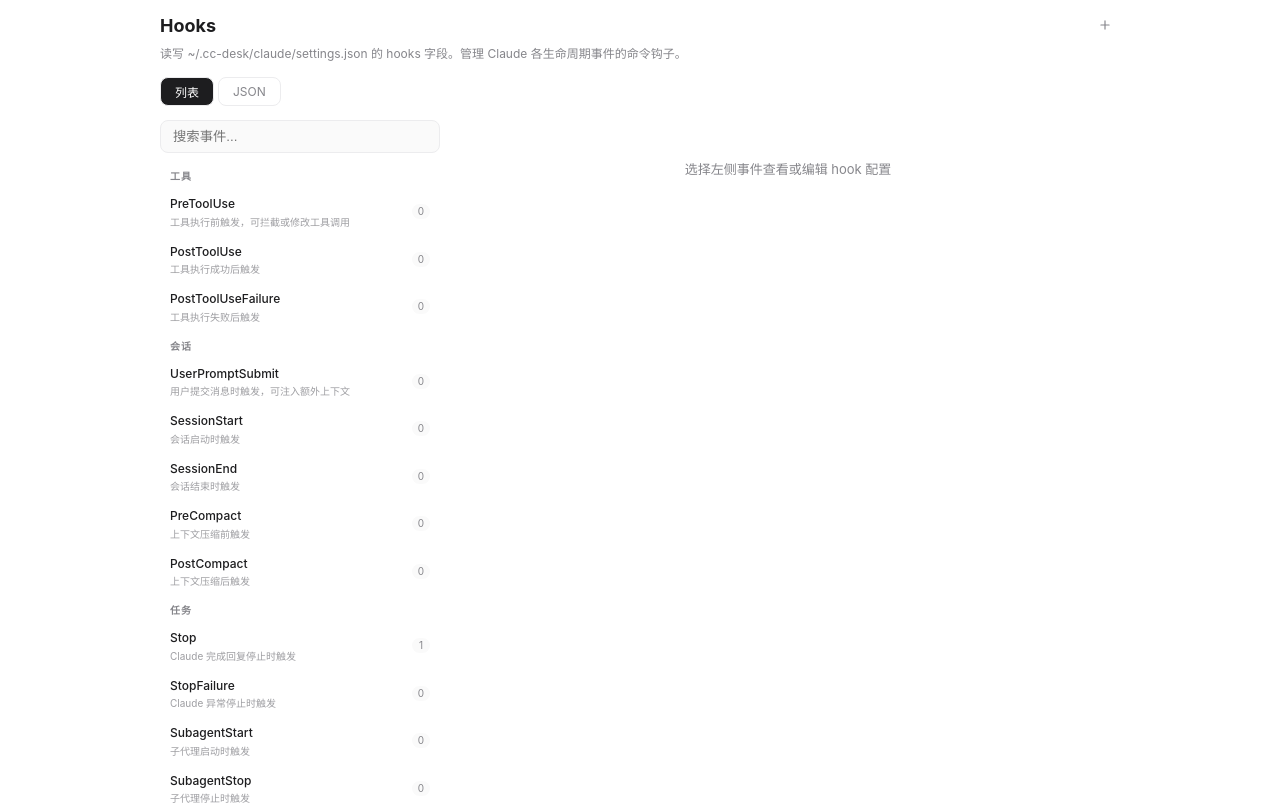
it: HooksSettings › 插件来源 hook 只读（无编辑按钮）
Click the text "Stop". click: (183, 638)
box: [170,630,196,645]
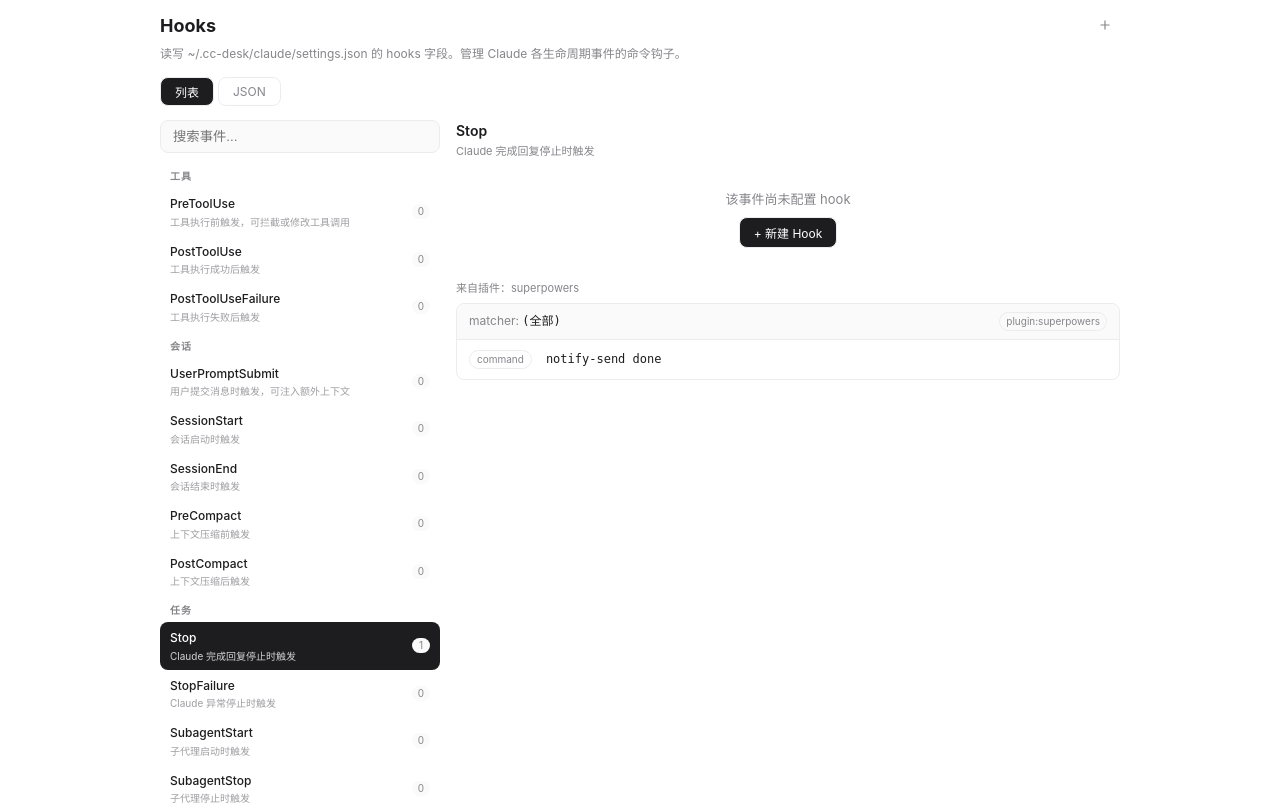
Check: the text "notify-send done" is shown, box [546,352,662,366]
